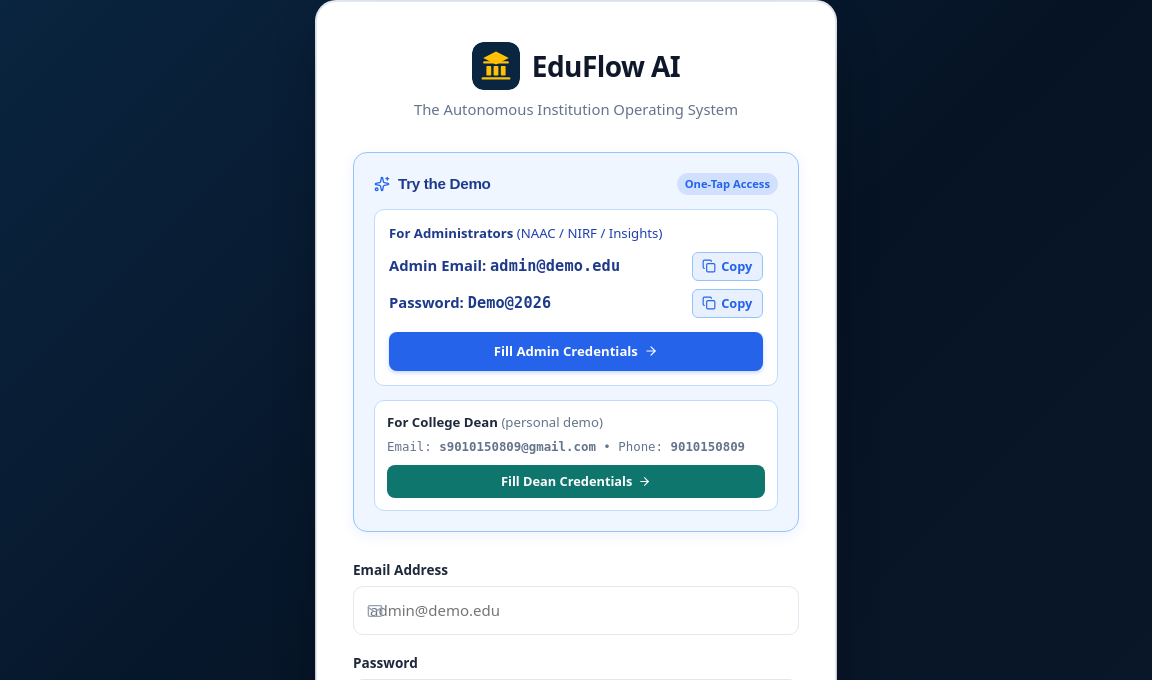
Scenario: Dean Login Flow › Clicking "Fill Dean Credentials" populates the password field with Demo@2026
Click the button "Fill Dean Credentials": (576, 482) [387,465,765,498]
(page scrolled)
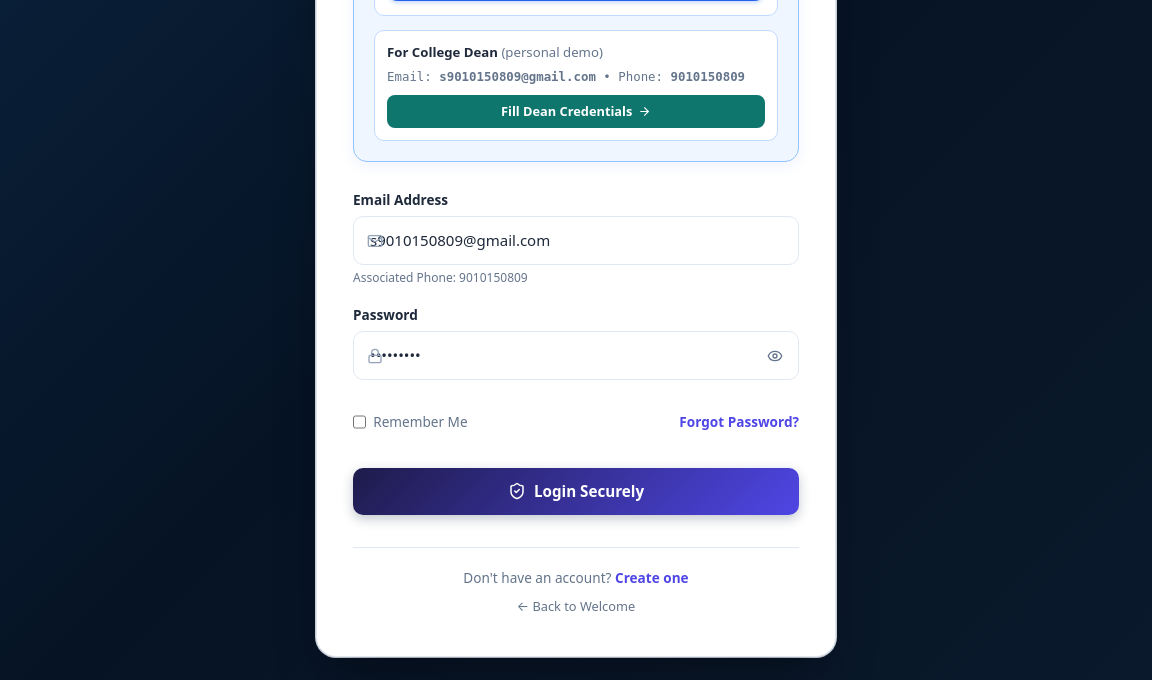
Expected: the password field labelled "Password" holds "Demo@2026", [353,331,799,380]
